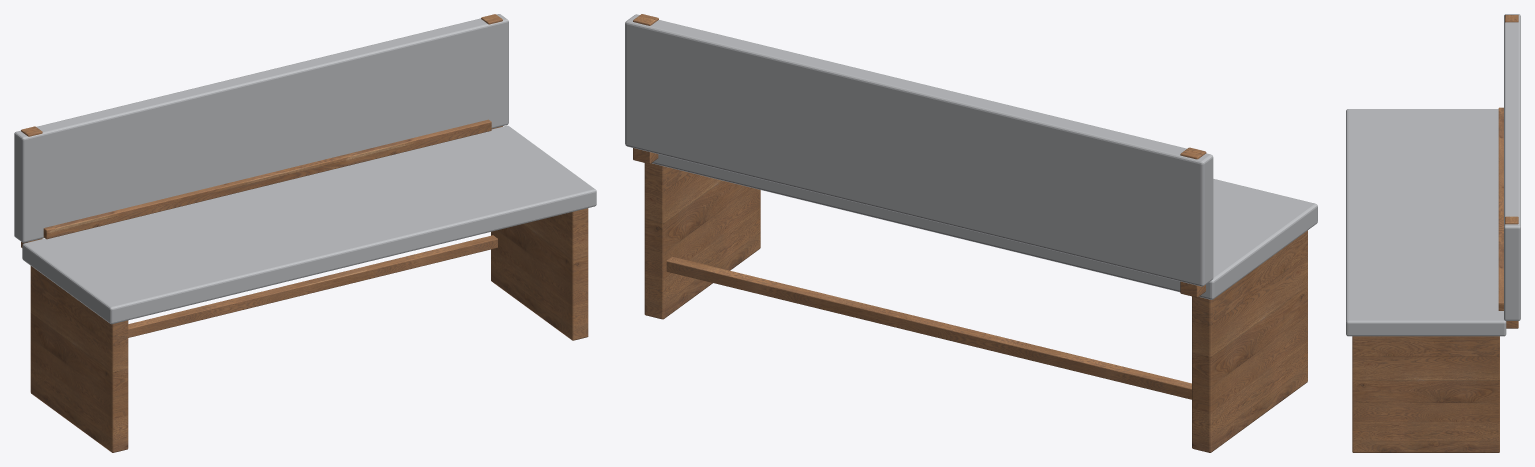
The model's file is waiting_bench.glb.
3 views of the same model, side by side, from view 1: azimuth 30°, elevation 25°; view 2: azimuth 150°, elevation 25°; view 3: azimuth 270°, elevation 25° (orthographic). The views are drawn at different scales.
Parts seen in each view (by area): view 1: WaitingBench; view 2: WaitingBench; view 3: WaitingBench.
Boxes of the visible parts, x1,y1,x2,y2 form: WaitingBench: (14, 14, 596, 452); WaitingBench: (625, 14, 1317, 452); WaitingBench: (1346, 14, 1520, 452).
Bounding box in the file's own units: 1.97 × 0.99 × 0.681.
2 materials, 1 textured.
